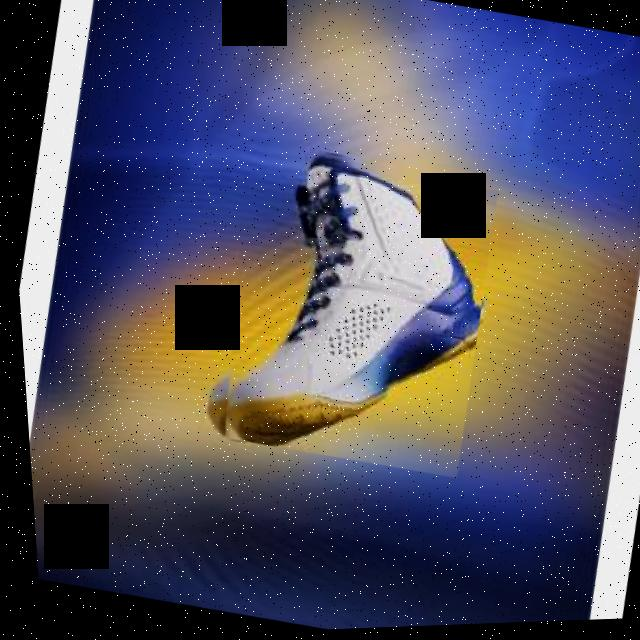shoe: (183, 131, 512, 488)
